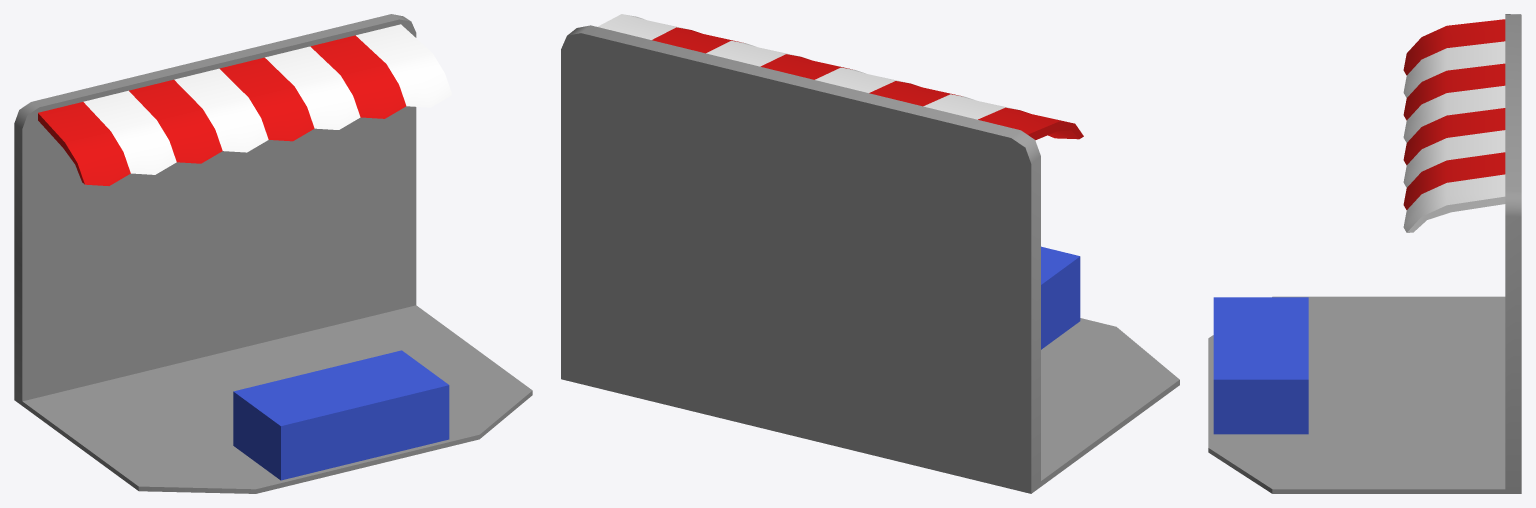
File: Market Sale.fbx
3 views of the same model, side by side, from view 1: azimuth 30°, elevation 25°; view 2: azimuth 150°, elevation 25°; view 3: azimuth 270°, elevation 25° (orthographic). The views are drawn at different scales.
Parts seen in each view (by area): view 1: Market sale; view 2: Market sale; view 3: Market sale.
Part boxes in pixels (bbox=[...]): Market sale: bbox=[14, 14, 532, 493]; Market sale: bbox=[561, 14, 1179, 493]; Market sale: bbox=[1208, 14, 1521, 493].
Bounding box in the file's own units: 3265 × 2334 × 2248.
